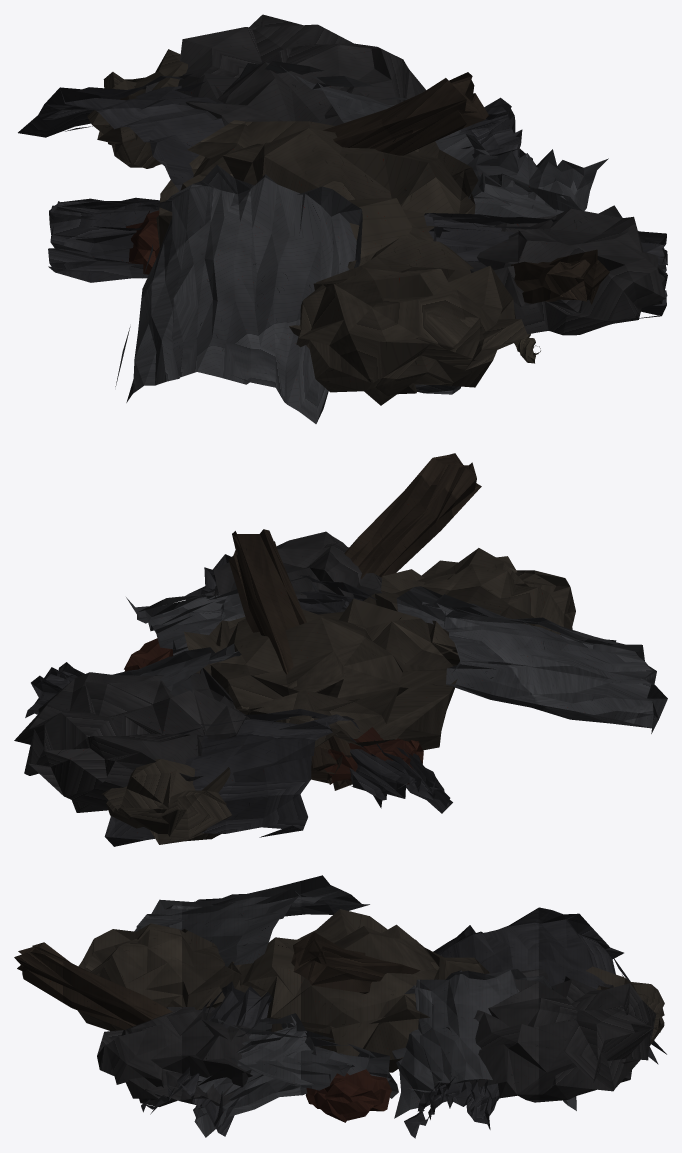
The model's file is rubble-charred-b-hy3-v1.glb.
3 renders of one model, top to bottom at view 1: azimuth 30°, elevation 25°; view 2: azimuth 150°, elevation 25°; view 3: azimuth 270°, elevation 25°, orthographic. The views are drawn at different scales.
Parts seen in each view (by area): view 1: geometry_16, geometry_2, geometry_0, geometry_1, geometry_3, geometry_17, geometry_12, geometry_8, geometry_11, geometry_18, geometry_9, geometry_19 (+4 smaller); view 2: geometry_0, geometry_16, geometry_1, geometry_17, geometry_2, geometry_9, geometry_8, geometry_4, geometry_3, geometry_12, geometry_18, geometry_19 (+4 smaller); view 3: geometry_1, geometry_0, geometry_3, geometry_19, geometry_2, geometry_16, geometry_17, geometry_9, geometry_13, geometry_18, geometry_8, geometry_11 (+3 smaller).
Part boxes in pixels (<box>): geometry_16: <box>115,165,362,423</box>; geometry_2: <box>289,237,528,405</box>; geometry_0: <box>156,120,478,257</box>; geometry_1: <box>145,14,425,125</box>; geometry_3: <box>465,205,667,335</box>; geometry_17: <box>18,73,229,191</box>; geometry_12: <box>48,197,167,282</box>; geometry_8: <box>323,72,490,155</box>; geometry_11: <box>424,213,667,318</box>; geometry_18: <box>467,149,608,226</box>; geometry_9: <box>511,249,609,304</box>; geometry_19: <box>231,61,489,164</box>; geometry_0: <box>184,598,457,750</box>; geometry_16: <box>396,586,667,733</box>; geometry_1: <box>14,668,250,812</box>; geometry_17: <box>104,709,359,846</box>; geometry_2: <box>363,548,575,666</box>; geometry_9: <box>344,453,481,578</box>; geometry_8: <box>228,529,352,790</box>; geometry_4: <box>101,759,231,844</box>; geometry_3: <box>212,531,382,611</box>; geometry_12: <box>349,731,452,813</box>; geometry_18: <box>126,575,317,655</box>; geometry_19: <box>113,643,241,696</box>; geometry_1: <box>446,969,656,1102</box>; geometry_0: <box>238,909,489,1072</box>; geometry_3: <box>97,1007,264,1106</box>; geometry_19: <box>392,969,576,1118</box>; geometry_2: <box>78,923,242,1030</box>; geometry_16: <box>134,875,369,967</box>; geometry_17: <box>438,907,666,1064</box>; geometry_9: <box>14,942,172,1029</box>; geometry_13: <box>186,1013,316,1137</box>; geometry_18: <box>210,1018,398,1098</box>; geometry_8: <box>291,932,420,993</box>; geometry_11: <box>141,981,272,1136</box>.
Size of the model in its own units: 1.27 by 0.4208 by 1.65.
7 materials, 7 textured.
